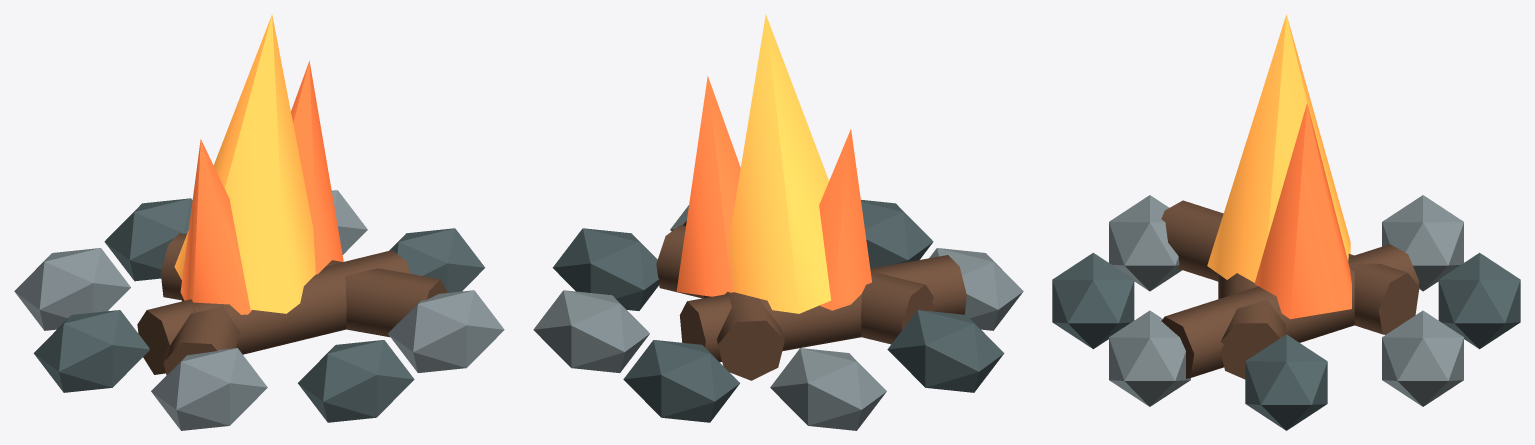
File: campfire.glb
3 renders of one model, left to right at view 1: azimuth 30°, elevation 25°; view 2: azimuth 150°, elevation 25°; view 3: azimuth 270°, elevation 25°, orthographic.
Visible parts, largest first — view 1: flame-0, log-2, flame-1, ring-stone-2, ring-stone-4, ring-stone-3, ring-stone-1, ring-stone-5, log-1, flame-2, ring-stone-6, ring-stone-0 (+2 smaller); view 2: flame-0, flame-2, log-0, ring-stone-5, ring-stone-7, ring-stone-4, ring-stone-6, ring-stone-0, flame-1, log-2, log-1, ring-stone-3 (+1 smaller); view 3: flame-0, flame-2, log-0, log-1, ring-stone-0, ring-stone-7, ring-stone-2, ring-stone-6, ring-stone-1, ring-stone-5, ring-stone-3, log-2.
Boxes of the visible parts, bbox=[...] form: flame-0: bbox=[174, 14, 315, 313]; log-2: bbox=[137, 250, 410, 374]; flame-1: bbox=[180, 139, 251, 314]; ring-stone-2: bbox=[298, 340, 414, 422]; ring-stone-4: bbox=[33, 310, 149, 392]; ring-stone-3: bbox=[151, 348, 267, 430]; ring-stone-1: bbox=[388, 290, 504, 372]; ring-stone-5: bbox=[14, 248, 130, 330]; log-1: bbox=[160, 233, 447, 337]; flame-2: bbox=[291, 60, 343, 274]; ring-stone-6: bbox=[104, 198, 192, 281]; ring-stone-0: bbox=[389, 228, 485, 292]; flame-0: bbox=[729, 14, 831, 313]; flame-2: bbox=[676, 76, 740, 296]; log-0: bbox=[679, 255, 966, 362]; ring-stone-5: bbox=[770, 348, 886, 430]; ring-stone-7: bbox=[533, 290, 649, 372]; ring-stone-4: bbox=[887, 310, 1004, 392]; ring-stone-6: bbox=[623, 340, 739, 422]; ring-stone-0: bbox=[552, 228, 658, 310]; flame-1: bbox=[819, 129, 871, 310]; log-2: bbox=[656, 225, 933, 344]; log-1: bbox=[683, 220, 784, 380]; ring-stone-3: bbox=[929, 248, 1023, 330]; flame-0: bbox=[1207, 14, 1350, 282]; flame-2: bbox=[1254, 103, 1351, 319]; log-0: bbox=[1161, 200, 1419, 334]; log-1: bbox=[1161, 244, 1419, 378]; ring-stone-0: bbox=[1245, 334, 1327, 430]; ring-stone-7: bbox=[1382, 310, 1463, 406]; ring-stone-2: bbox=[1052, 252, 1134, 349]; ring-stone-6: bbox=[1438, 252, 1520, 349]; ring-stone-1: bbox=[1109, 310, 1190, 406]; ring-stone-5: bbox=[1382, 195, 1463, 291]; ring-stone-3: bbox=[1109, 195, 1182, 291]; log-2: bbox=[1218, 273, 1285, 379].
Size of the model in its own units: 1.43 by 1.05 by 1.36.
